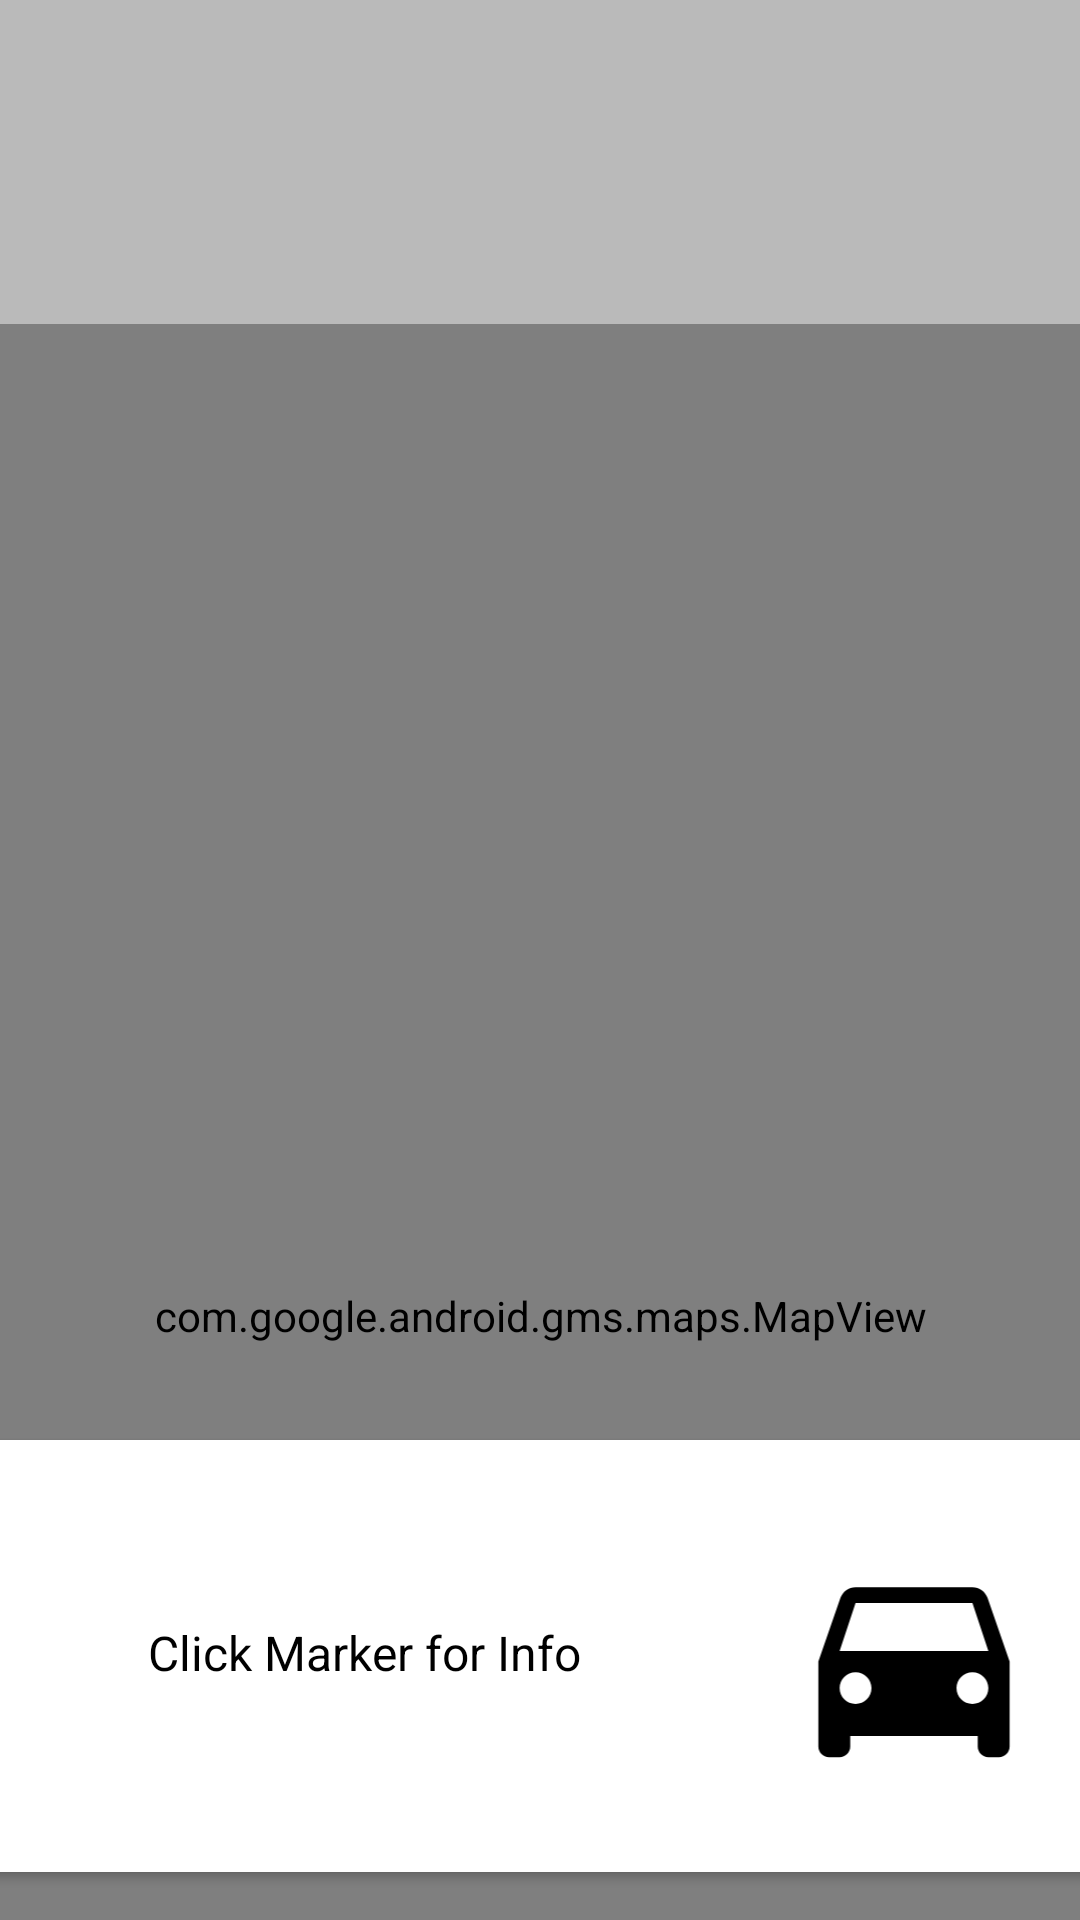

Icon click points for this 1080px x 1920px phone screenshot, format [x,y]:
directions car: [914,1672]
